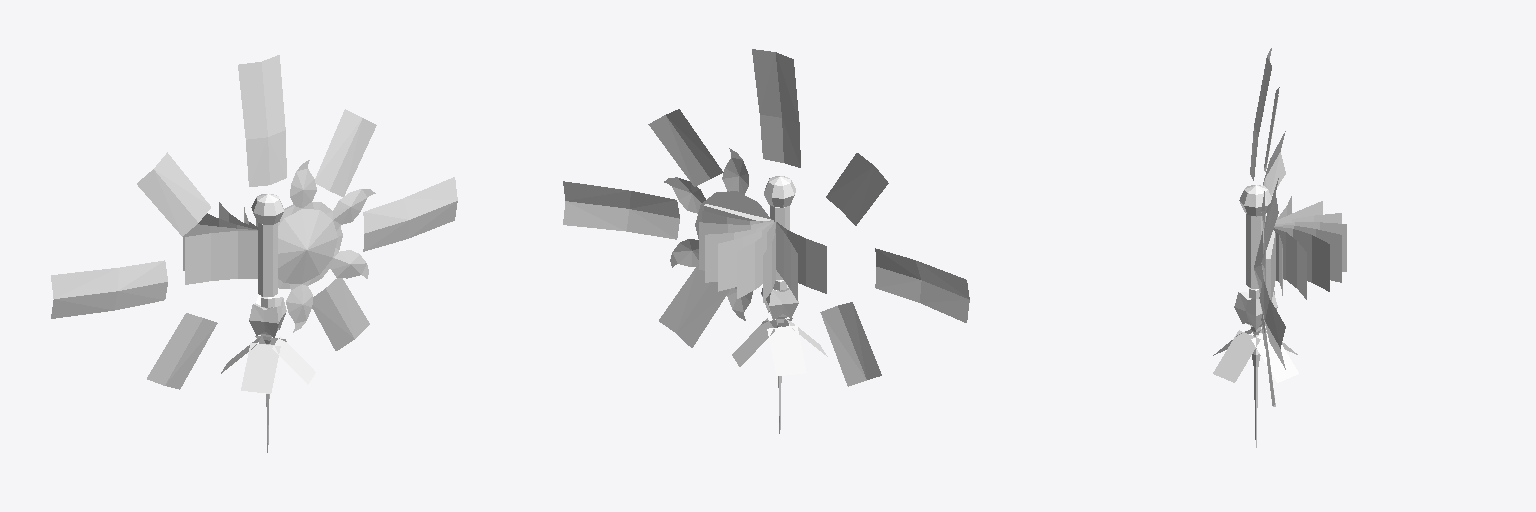
Rendered from shadowwarlockx3.obj.
3 views of the same model, side by side, from view 1: azimuth 30°, elevation 25°; view 2: azimuth 150°, elevation 25°; view 3: azimuth 270°, elevation 25° (orthographic).
Parts seen in each view (by area): view 1: w2dbkx3; view 2: w2dbkx3; view 3: w2dbkx3.
Part boxes in pixels (x1,y1,x2,y2): w2dbkx3: (51, 55, 457, 452); w2dbkx3: (563, 49, 969, 433); w2dbkx3: (1213, 48, 1346, 447).
Bounding box in the file's own units: 1.46 × 1.38 × 0.4225.